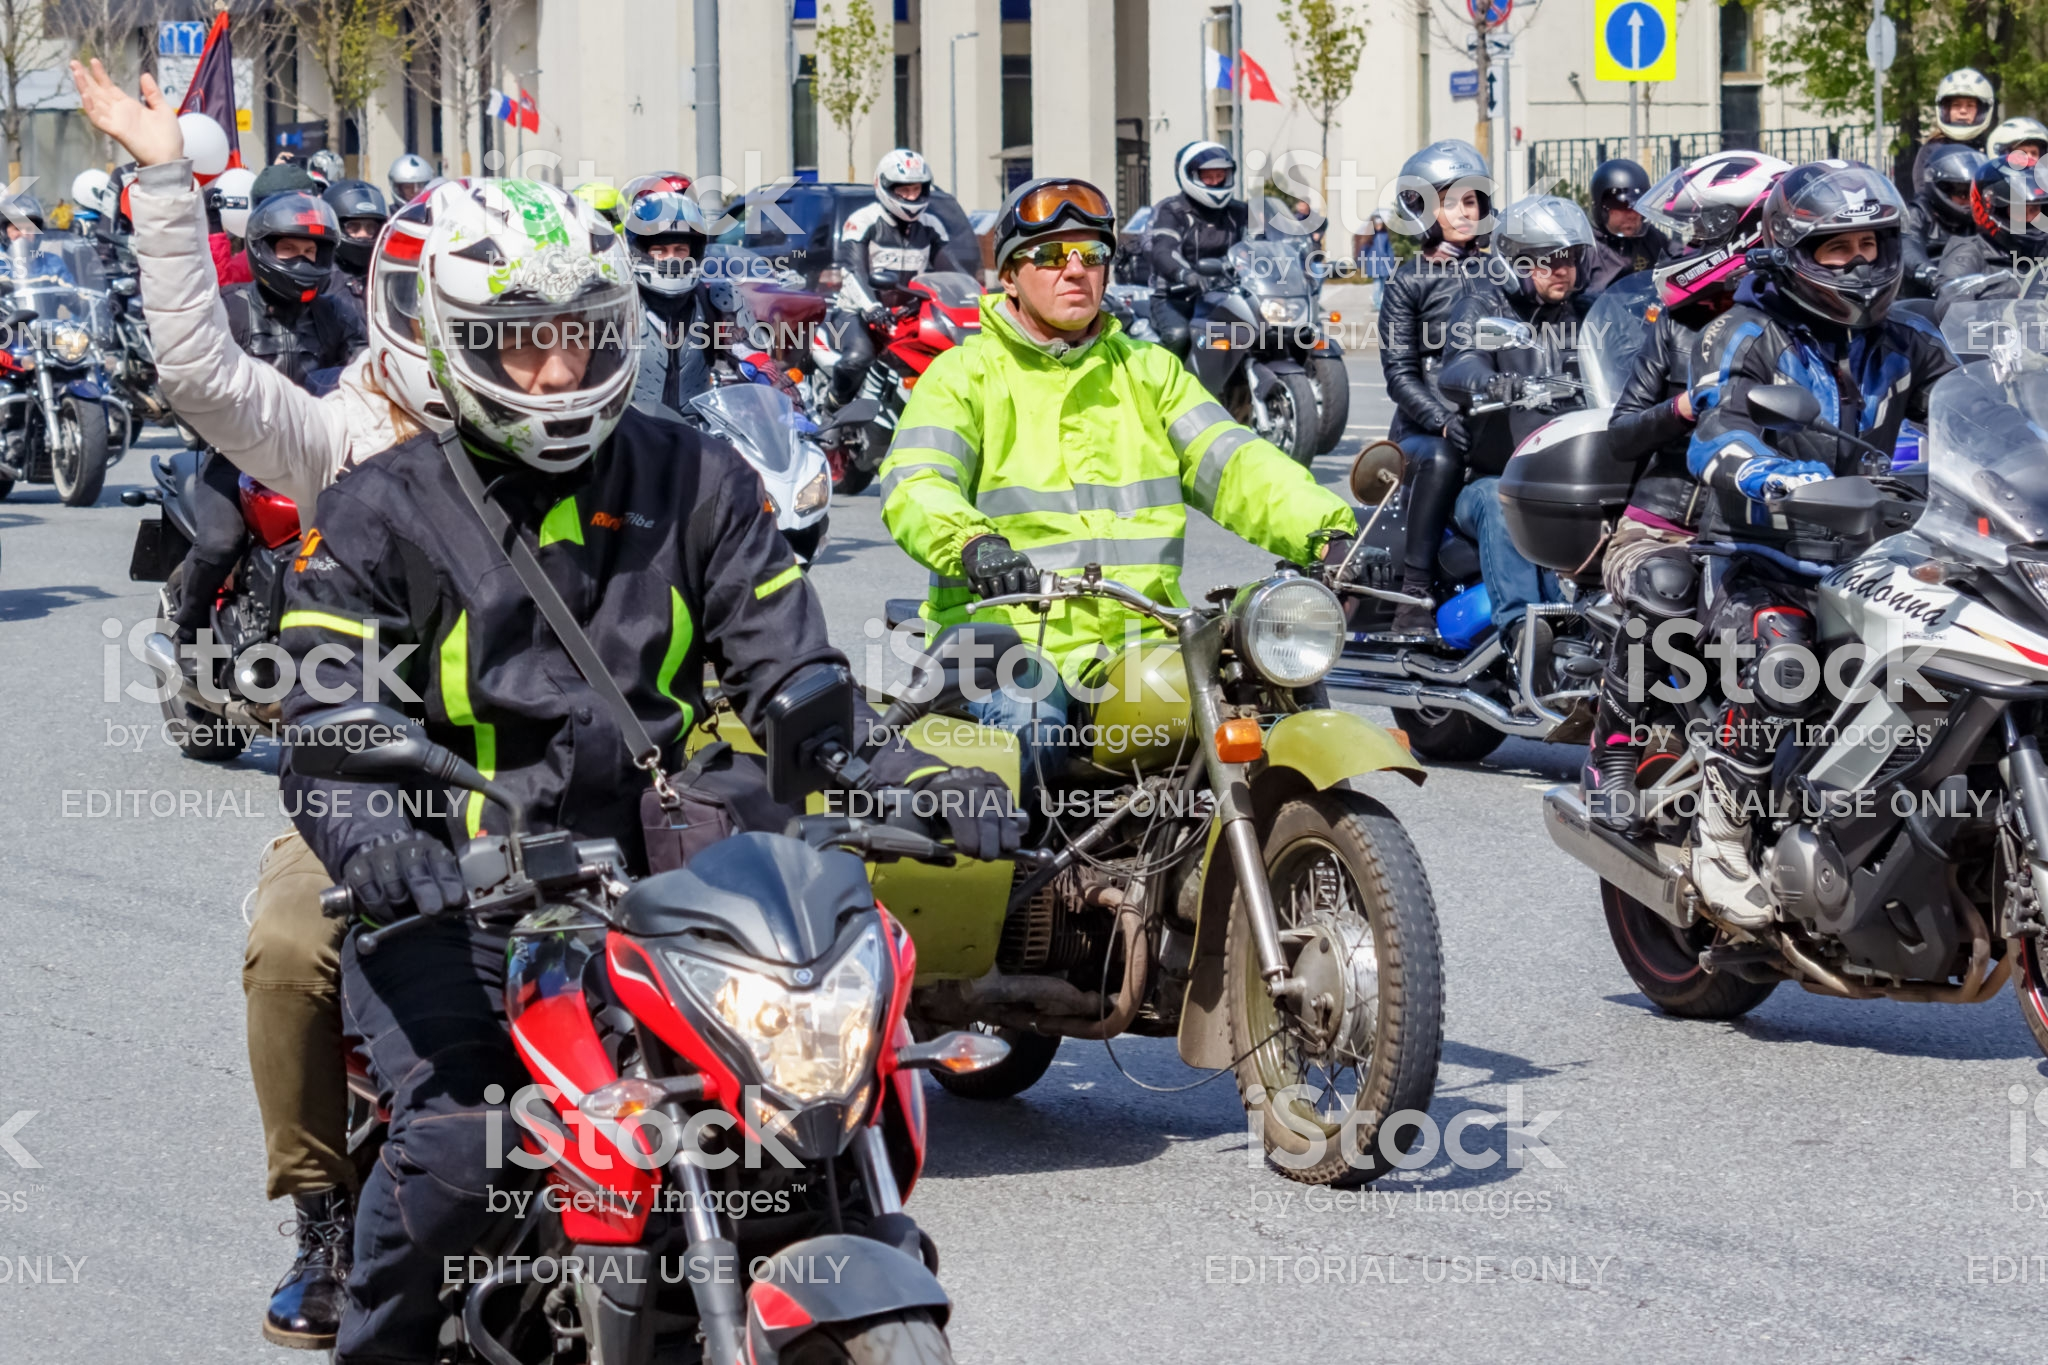helmet: (429, 181, 636, 443), (1759, 168, 1911, 318), (1648, 165, 1772, 288), (979, 183, 1125, 254), (241, 213, 338, 318), (1398, 152, 1495, 245), (624, 200, 719, 294), (1498, 204, 1588, 279), (1931, 67, 1996, 136), (1166, 146, 1238, 203), (876, 152, 938, 216)
